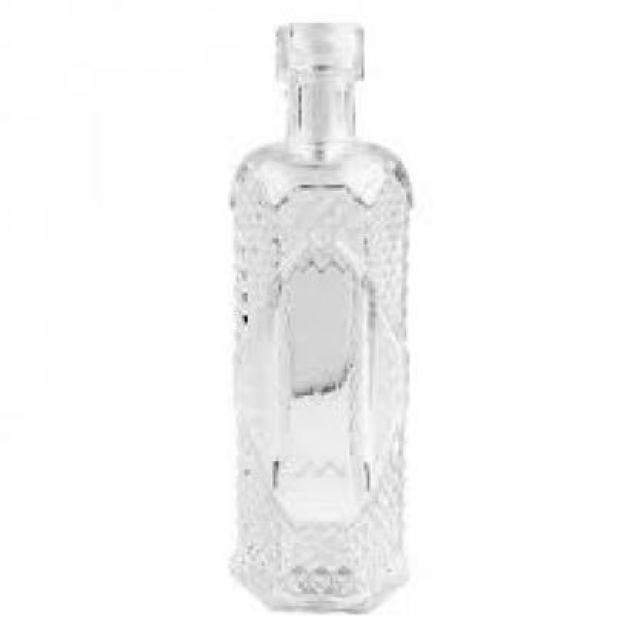kaca: (225, 20, 406, 611)
